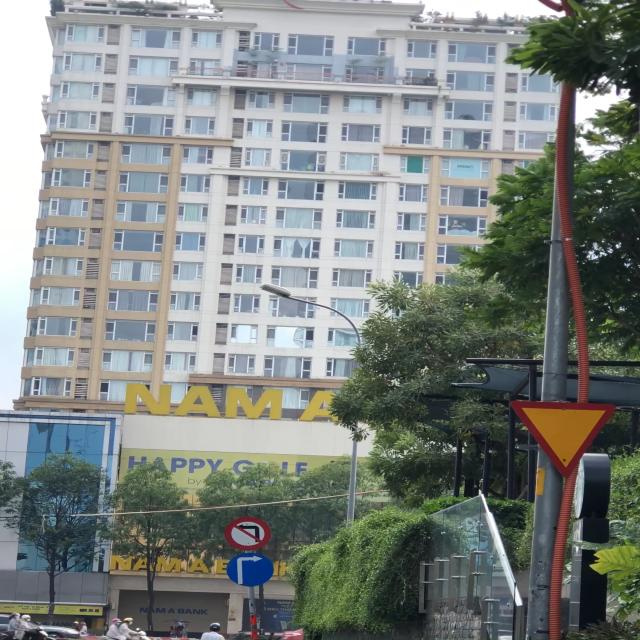Bien bao cam re trai: (224, 516, 273, 552)
Bien bao giao nhau voi duong uu tien: (504, 394, 626, 479)
Bien bao huong di phai theo: (227, 551, 274, 590)
